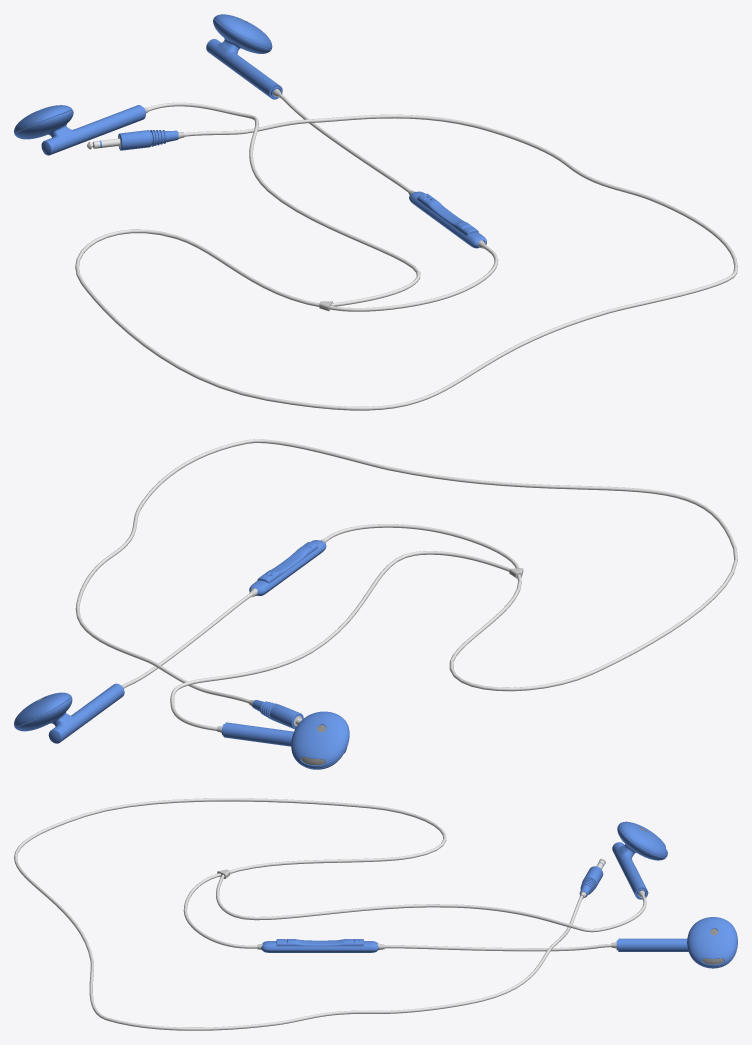
File: Cuffie.fbx
3 views of the same model, one above another, from view 1: azimuth 30°, elevation 25°; view 2: azimuth 150°, elevation 25°; view 3: azimuth 270°, elevation 25° (orthographic). The views are drawn at different scales.
Visible parts, largest first — view 1: CABLE, Earphone_R.001, Earphone_R, JACK, VOLUME, VOLUME_Controller; view 2: CABLE, Earphone_R.001, Earphone_R, JACK, VOLUME, VOLUME_Controller; view 3: CABLE, Earphone_R, Earphone_R.001, VOLUME, VOLUME_Controller, JACK.
Boxes of the visible parts, <box> form: CABLE: <box>75,93,737,410</box>; Earphone_R.001: <box>14,105,145,155</box>; Earphone_R: <box>206,14,282,99</box>; JACK: <box>87,130,178,150</box>; VOLUME: <box>409,191,486,248</box>; VOLUME_Controller: <box>417,193,478,235</box>; CABLE: <box>75,439,737,730</box>; Earphone_R.001: <box>221,711,349,769</box>; Earphone_R: <box>14,683,124,743</box>; JACK: <box>252,700,303,729</box>; VOLUME: <box>249,540,326,595</box>; VOLUME_Controller: <box>257,542,317,583</box>; CABLE: <box>14,798,646,1030</box>; Earphone_R: <box>616,917,737,968</box>; Earphone_R.001: <box>612,821,667,899</box>; VOLUME: <box>261,941,379,952</box>; VOLUME_Controller: <box>276,939,363,946</box>; JACK: <box>579,858,605,897</box>.
Bounding box in the file's own units: 16.92 × 1.2 × 22.44.
